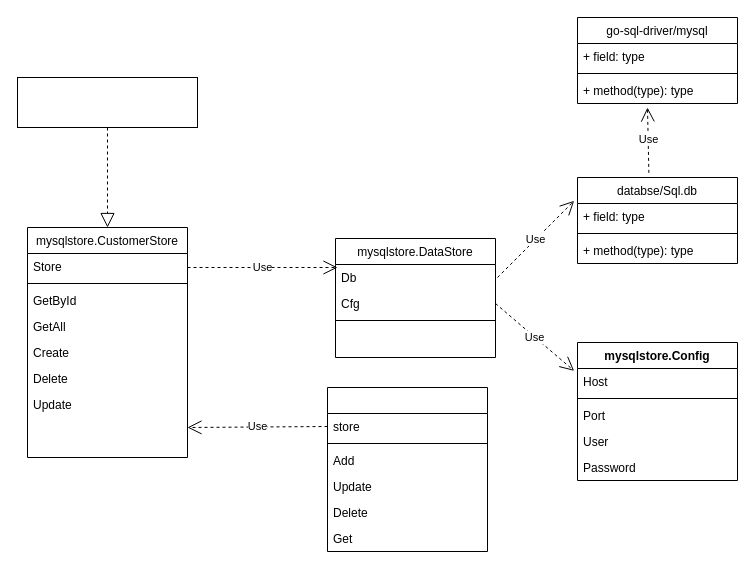
This 755x572 diagram has some shape labels left out. The shapes that lost their labels are listed below. From the top down, each one's box as (x1, y1, x2, y2) in pixels, then its label:
(16, 76, 198, 128): domain .CustomerStore
(326, 386, 488, 552): main.controller
